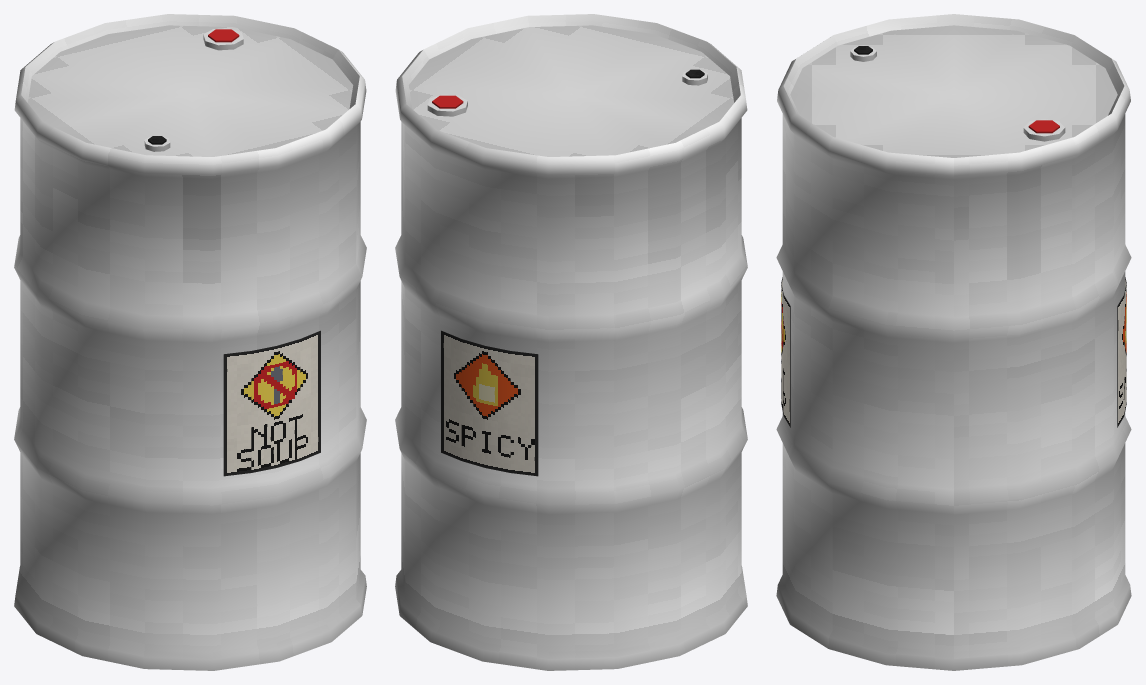
Rendered from p_barrel.glb.
3 views of the same model, side by side, from view 1: azimuth 30°, elevation 25°; view 2: azimuth 150°, elevation 25°; view 3: azimuth 270°, elevation 25° (orthographic).
Visible parts, largest first — view 1: barrel_lod0; view 2: barrel_lod0; view 3: barrel_lod0.
Boxes of the visible parts, x1=… form: barrel_lod0: x1=14, y1=14, x2=366, y2=670; barrel_lod0: x1=395, y1=14, x2=747, y2=670; barrel_lod0: x1=776, y1=14, x2=1131, y2=670.
Size of what is drawn, in the model's own units: 0.75 by 1.2 by 0.75.
2 materials, 2 textured.
